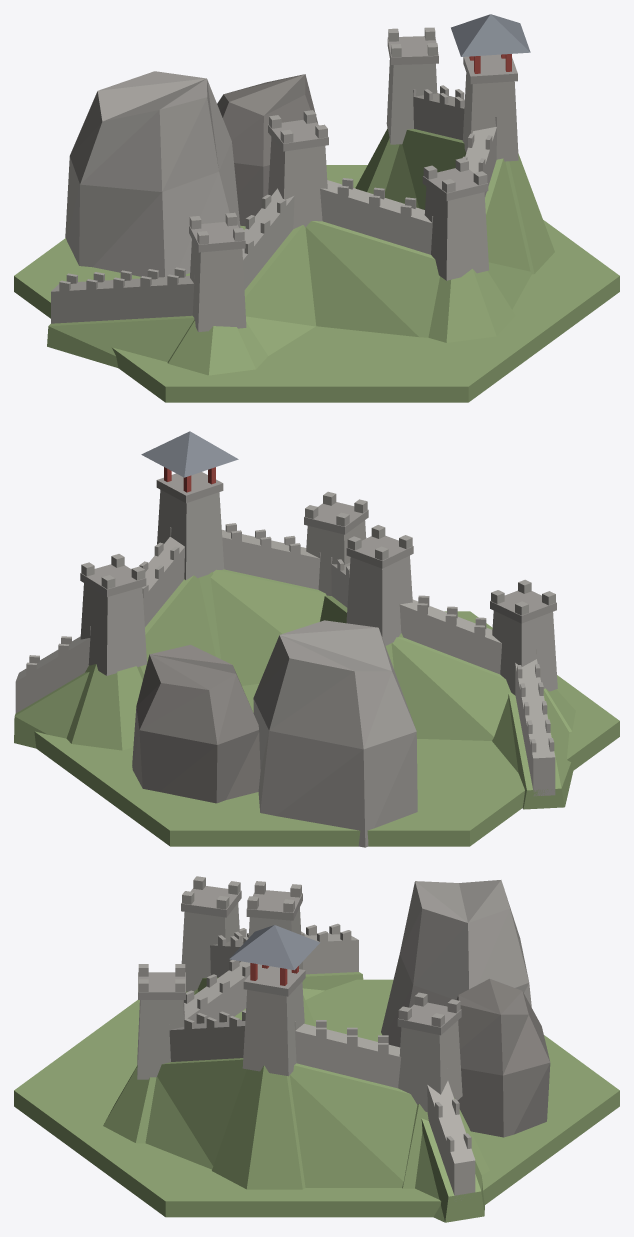
Rendered from great-wall.glb.
3 views of the same model, one above another, from view 1: azimuth 30°, elevation 25°; view 2: azimuth 150°, elevation 25°; view 3: azimuth 270°, elevation 25° (orthographic).
Parts seen in each view (by area): view 1: LOD0; view 2: LOD0; view 3: LOD0.
Part boxes in pixels (<box>): LOD0: <box>14,14,619,402</box>; LOD0: <box>14,431,619,847</box>; LOD0: <box>14,876,619,1222</box>.
Size of what is drawn, in the model's own units: 1.63 by 0.8 by 1.72.
